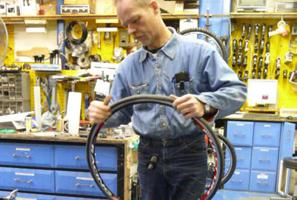person: (85, 1, 249, 200)
